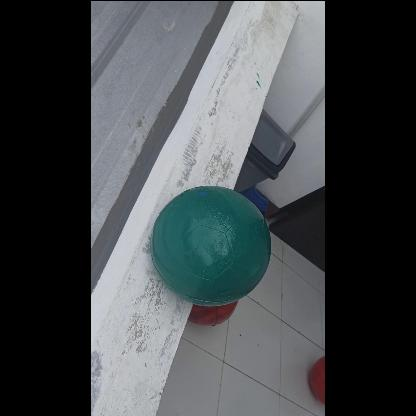green_ball: (153, 183, 273, 303)
